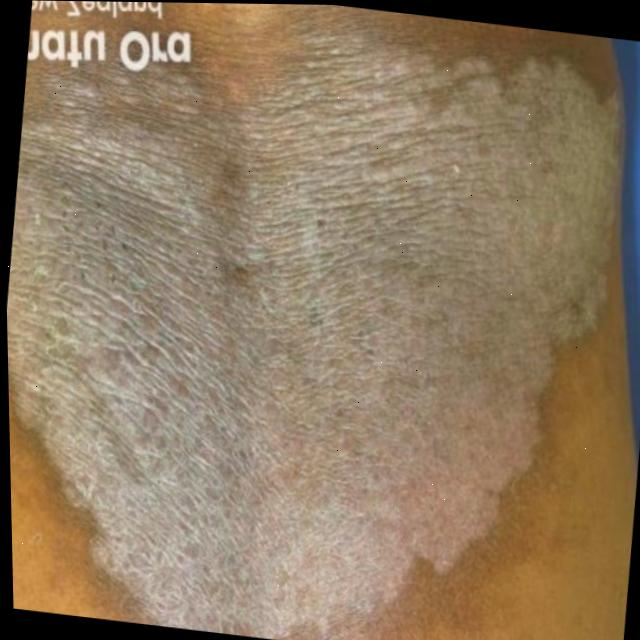Eczema: (0, 0, 634, 577)
